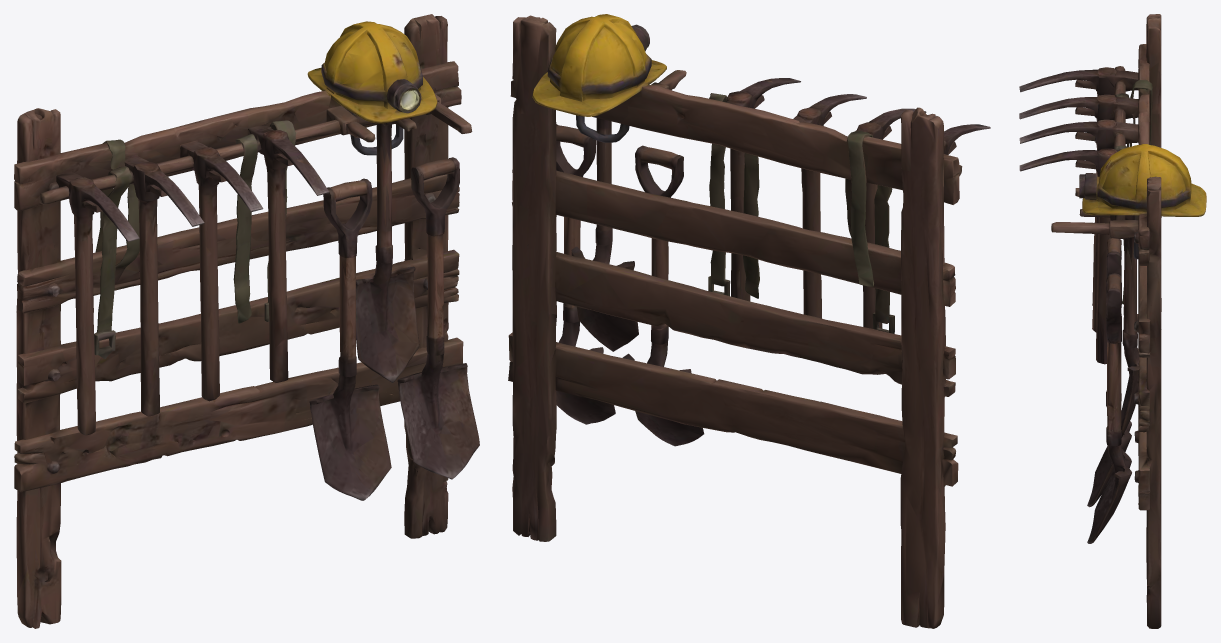
The model's file is mine_tool_rack_idle.glb.
3 renders of one model, left to right at view 1: azimuth 30°, elevation 25°; view 2: azimuth 150°, elevation 25°; view 3: azimuth 270°, elevation 25°, orthographic. The views are drawn at different scales.
Parts seen in each view (by area): view 1: tripo_node_2f489d3b-380d-4f1d-b872-518dc14eec7b; view 2: tripo_node_2f489d3b-380d-4f1d-b872-518dc14eec7b; view 3: tripo_node_2f489d3b-380d-4f1d-b872-518dc14eec7b.
Boxes of the visible parts, x1,y1,x2,y2 form: tripo_node_2f489d3b-380d-4f1d-b872-518dc14eec7b: (14,14,479,628); tripo_node_2f489d3b-380d-4f1d-b872-518dc14eec7b: (508,14,990,628); tripo_node_2f489d3b-380d-4f1d-b872-518dc14eec7b: (1019,14,1206,628).
Size of the model in its own units: 1.59 by 1.8 by 0.6777.
1 material, 1 textured.
